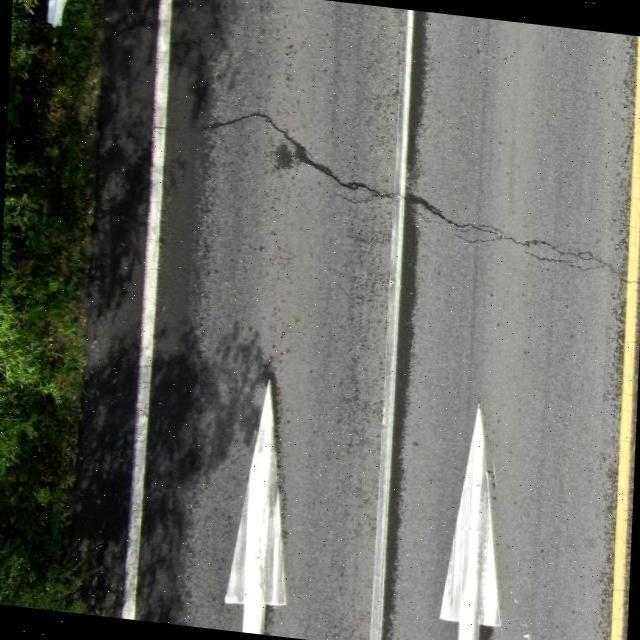GRIETA: (413, 195, 639, 285), (208, 112, 393, 198), (383, 197, 418, 639), (407, 12, 426, 179)
